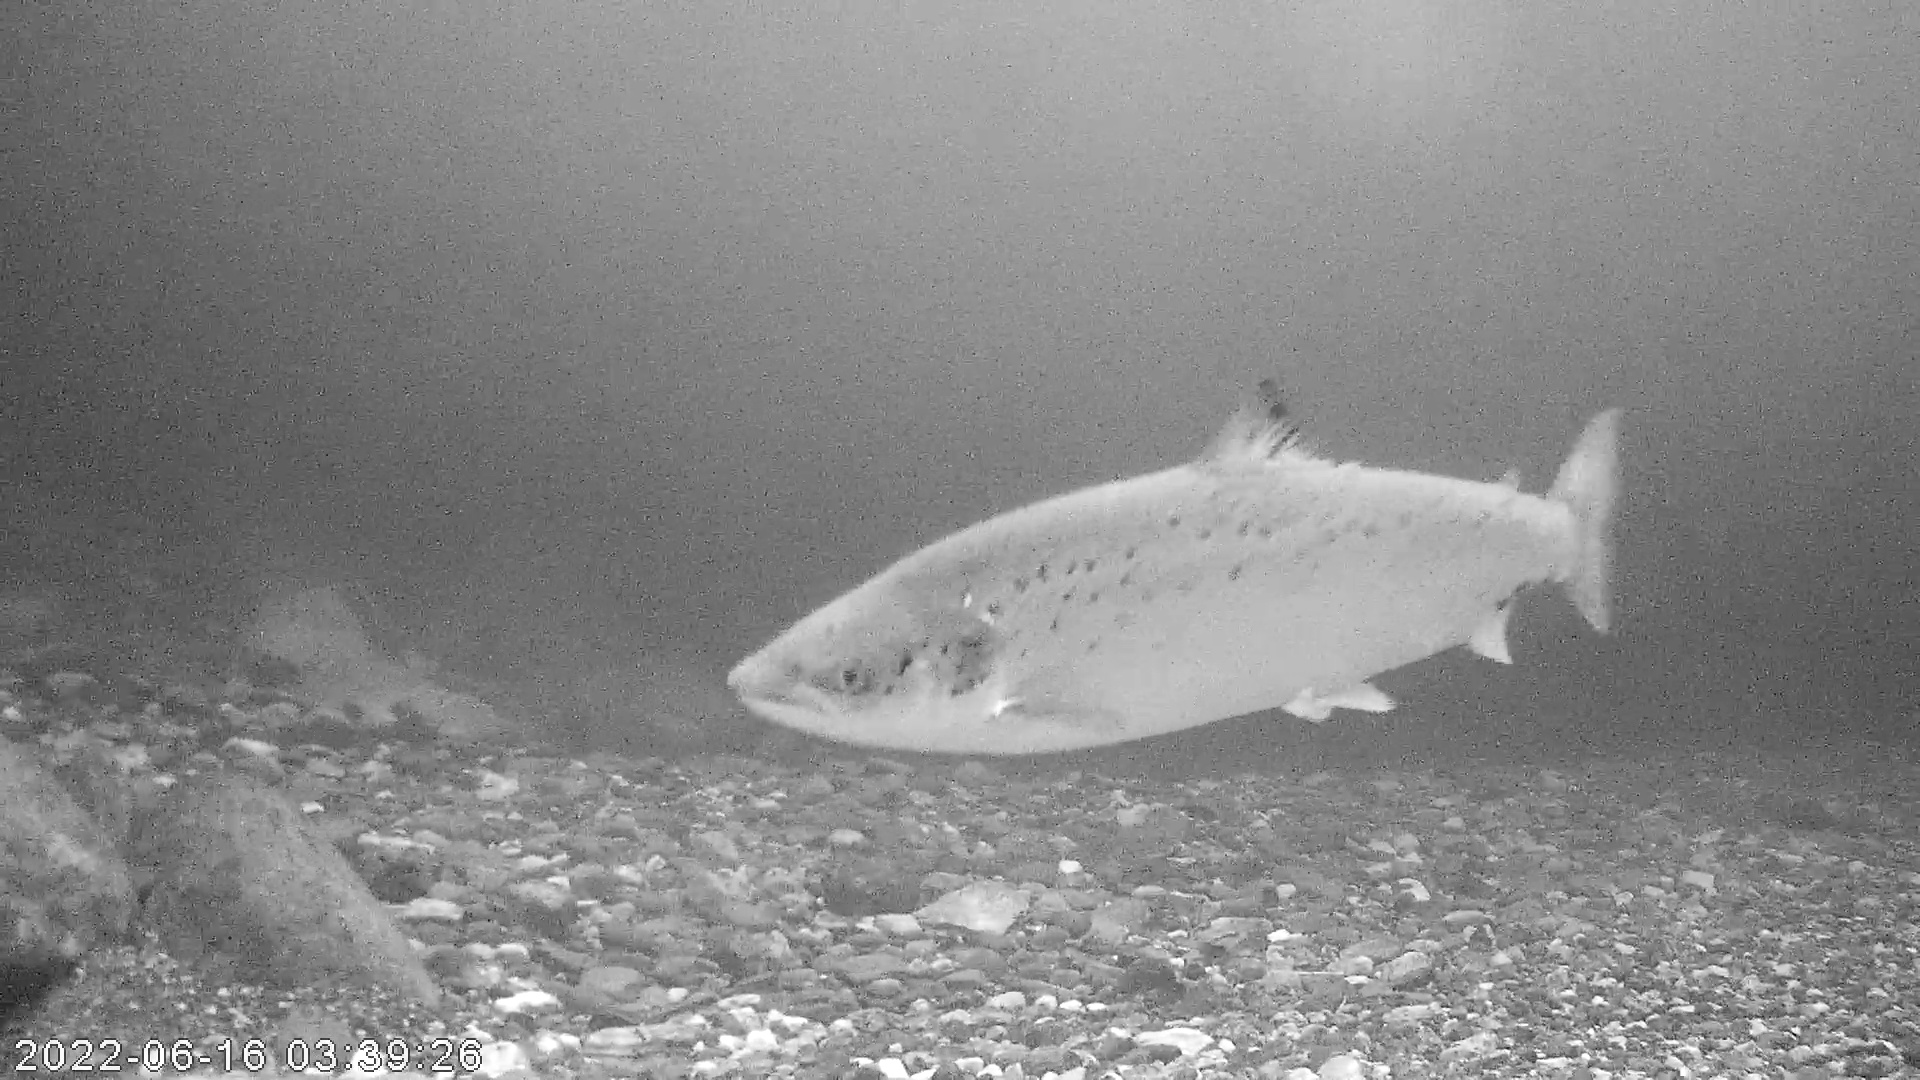salmon: (723, 376, 1622, 760)
